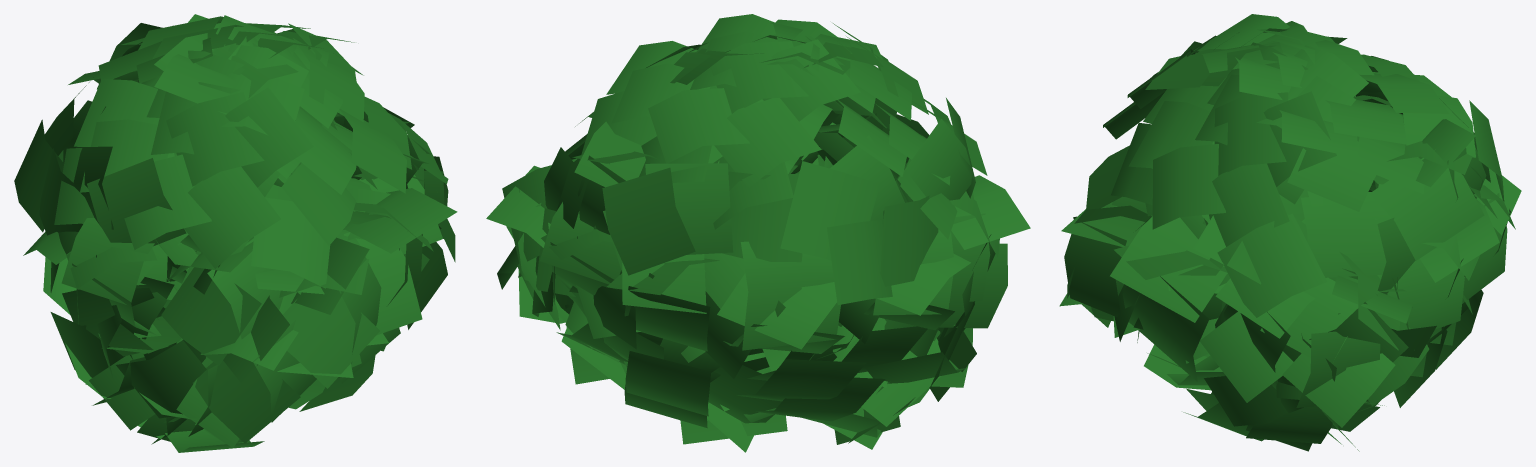
The model's file is bush.fbx.
3 views of the same model, side by side, from view 1: azimuth 30°, elevation 25°; view 2: azimuth 150°, elevation 25°; view 3: azimuth 270°, elevation 25° (orthographic). The views are drawn at different scales.
Visible parts, largest first — view 1: bush; view 2: bush; view 3: bush.
Boxes of the visible parts, x1,y1,x2,y2 form: bush: [14, 14, 457, 452]; bush: [486, 14, 1030, 452]; bush: [1059, 14, 1521, 451].
Bounding box in the file's own units: 624 × 538 × 583.
